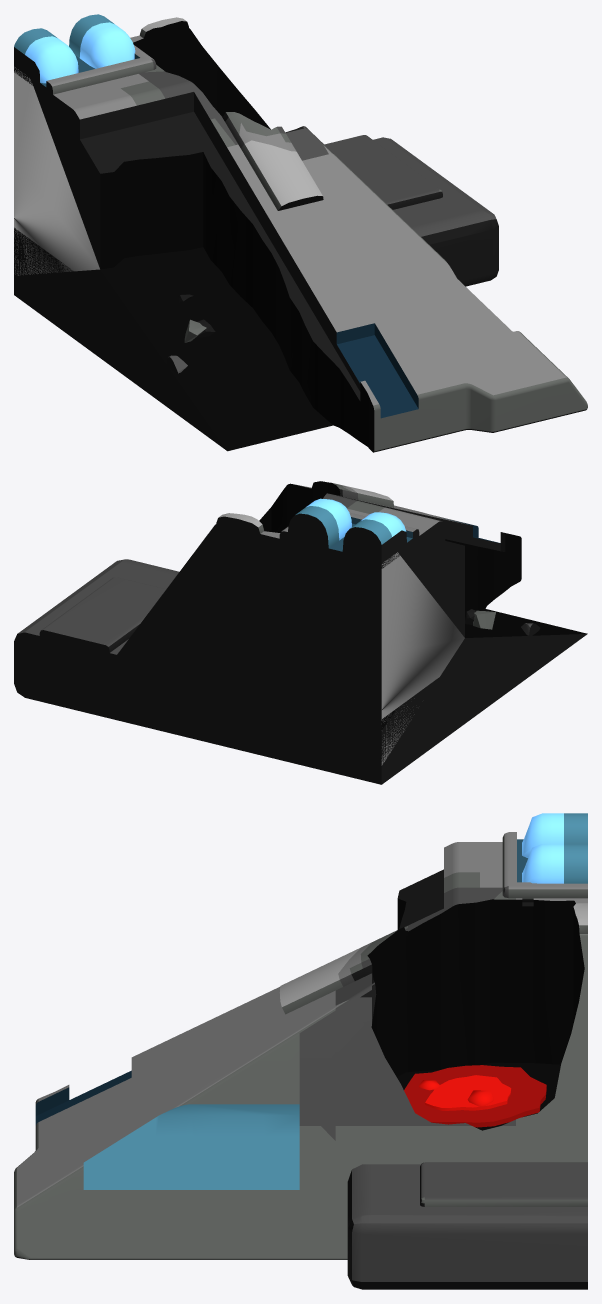
File: ice_bunker_br_wreck.glb
3 views of the same model, one above another, from view 1: azimuth 30°, elevation 25°; view 2: azimuth 150°, elevation 25°; view 3: azimuth 270°, elevation 25° (orthographic). The views are drawn at different scales.
Visible parts, largest first — view 1: ice_bunker_br_wreck; view 2: ice_bunker_br_wreck; view 3: ice_bunker_br_wreck.
Part boxes in pixels (x1,y1,x2,y2): ice_bunker_br_wreck: (14, 14, 587, 452); ice_bunker_br_wreck: (14, 481, 587, 784); ice_bunker_br_wreck: (14, 813, 587, 1289).
Bounding box in the file's own units: 20 × 13.12 × 23.9.
